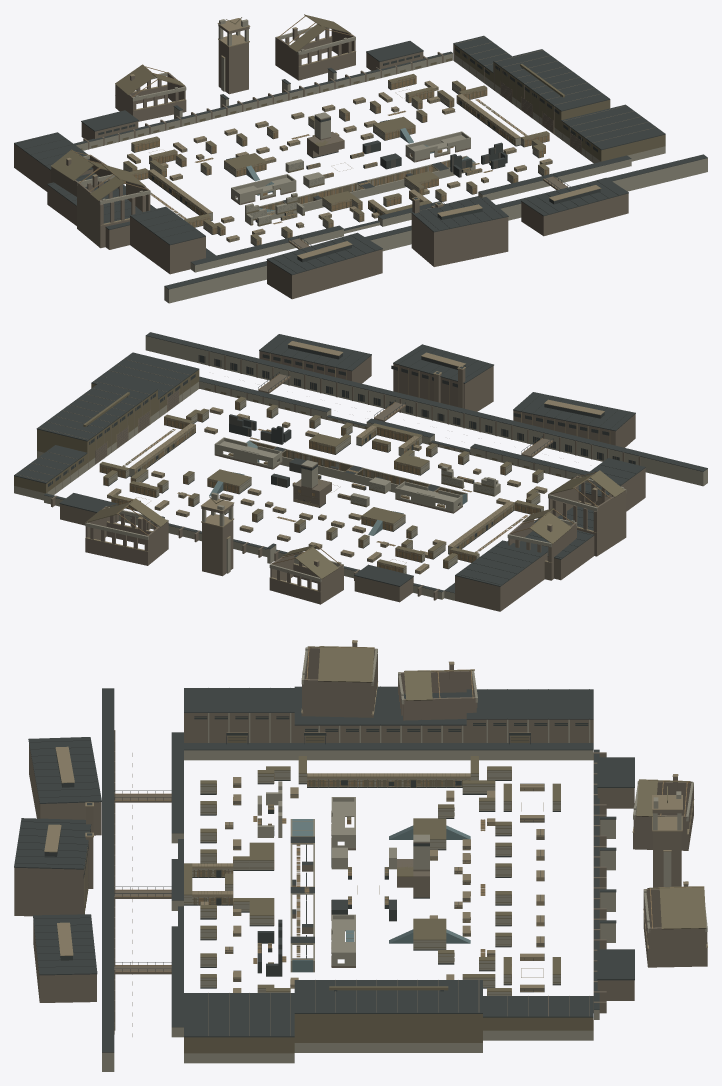
The model's file is undertow-architecture.glb.
3 renders of one model, top to bottom at view 1: azimuth 30°, elevation 25°; view 2: azimuth 150°, elevation 25°; view 3: azimuth 270°, elevation 25°, orthographic. The views are drawn at different scales.
Parts seen in each view (by area): view 1: undertow-original-architecture; view 2: undertow-original-architecture; view 3: undertow-original-architecture.
Part boxes in pixels (x1=…): undertow-original-architecture: x1=14, y1=14, x2=707, y2=303; undertow-original-architecture: x1=14, y1=332, x2=707, y2=611; undertow-original-architecture: x1=14, y1=640, x2=707, y2=1071.
Bounding box in the file's own units: 210 × 29.45 × 169.
